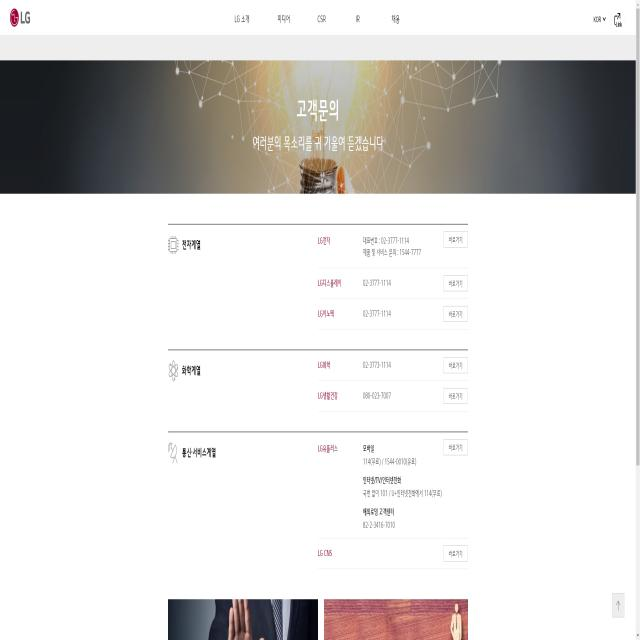menu-bar: (228, 5, 406, 32)
